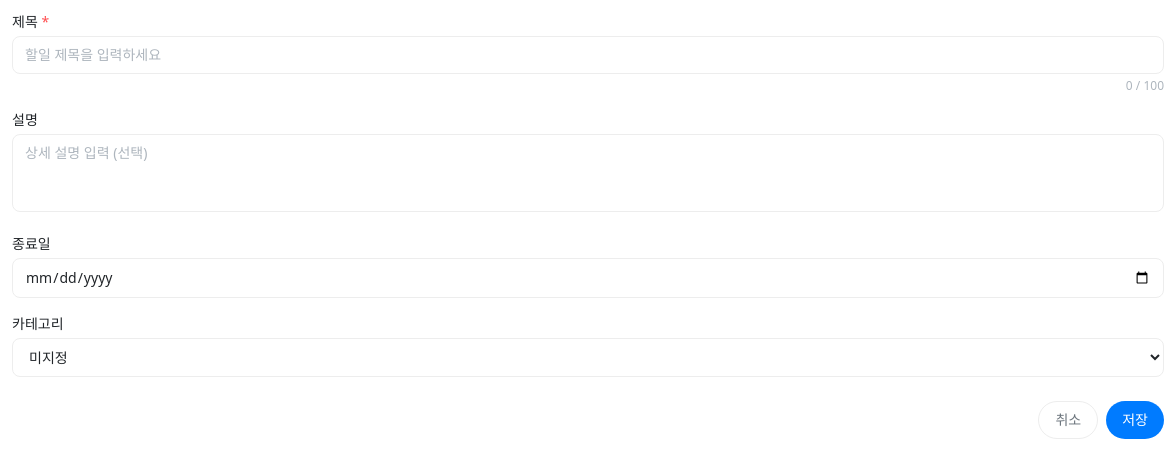
Test: TodoForm › 유효성 검증 › 제목 없이 제출하면 필수 오류를 표시한다
Click the button "저장".
click(1135, 420)  # box x1=1106 y1=401 x2=1164 y2=439
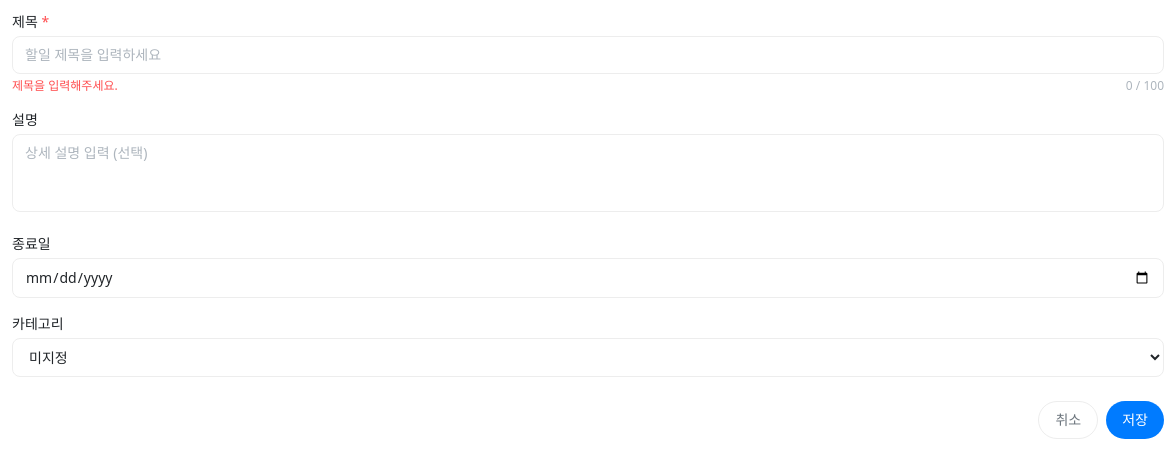
Expected: the text "제목을 입력해주세요." is shown, x1=12 y1=78 x2=118 y2=94
